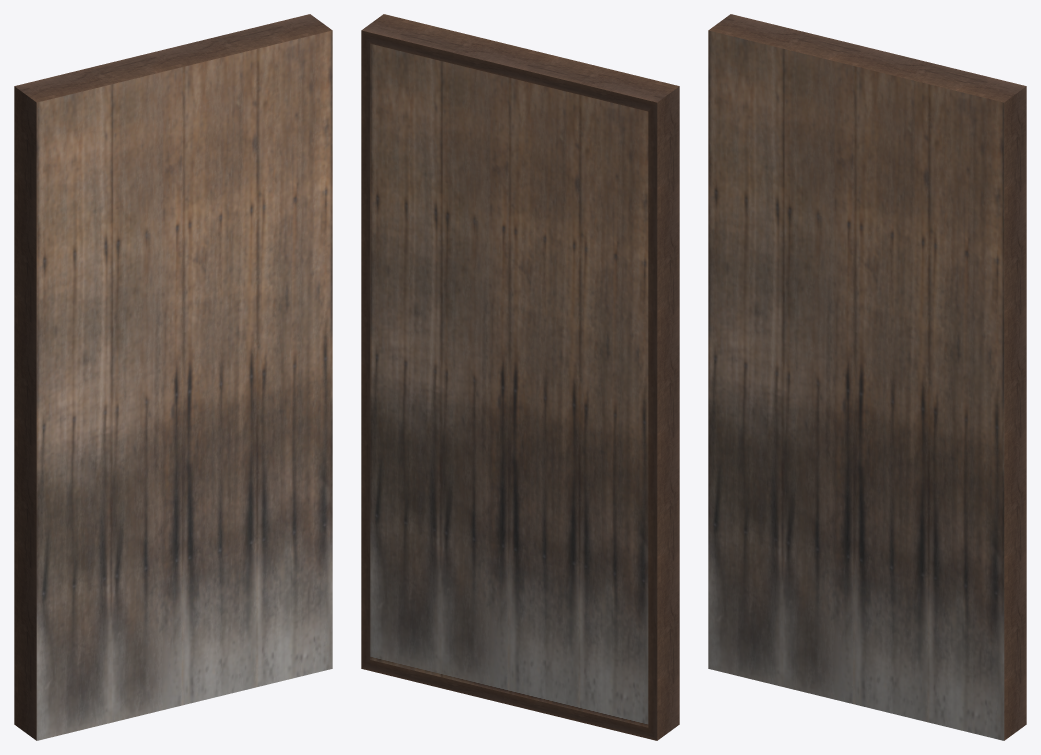
Rendered from amado_c.fbx.
The picture shows the model from 3 angles, left to right: view 1: azimuth 30°, elevation 25°; view 2: azimuth 150°, elevation 25°; view 3: azimuth 330°, elevation 25°; orthographic projection.
Visible parts, largest first — view 1: amado_c; view 2: amado_c; view 3: amado_c.
Boxes of the visible parts, x1,y1,x2,y2 form: amado_c: (14,14,332,740); amado_c: (361,14,679,740); amado_c: (708,14,1026,740).
Bounding box in the file's own units: 113 × 233 × 14.85.
